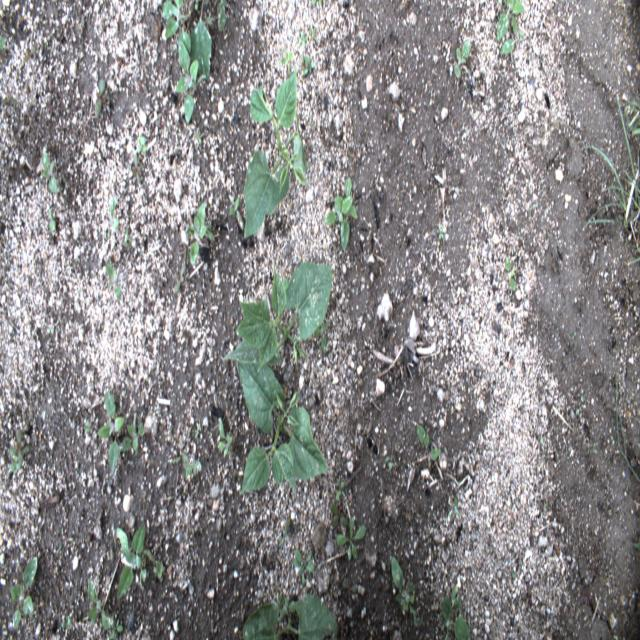crop: (235, 355, 330, 494), (223, 260, 335, 371), (243, 70, 309, 239), (240, 592, 340, 638), (187, 0, 230, 79), (116, 522, 146, 600), (10, 552, 38, 630), (174, 38, 199, 124), (186, 202, 214, 264), (441, 584, 472, 639), (495, 0, 525, 56), (162, 0, 191, 57), (416, 423, 441, 461)
weed: (579, 91, 639, 266), (613, 360, 639, 479), (324, 174, 359, 252), (97, 389, 125, 476), (391, 557, 421, 629), (87, 576, 115, 629), (336, 516, 368, 562), (293, 546, 315, 587), (118, 422, 145, 452), (42, 152, 61, 192), (452, 38, 470, 79), (9, 430, 29, 464), (218, 417, 234, 459), (105, 262, 122, 300), (182, 450, 202, 478), (277, 592, 295, 621), (108, 196, 120, 238), (329, 501, 349, 526), (314, 319, 328, 354), (278, 514, 291, 549), (94, 79, 105, 118), (505, 254, 515, 293), (152, 556, 166, 582), (297, 28, 317, 46), (300, 54, 316, 76), (282, 46, 293, 75), (109, 618, 123, 638), (172, 272, 184, 294), (133, 152, 141, 184), (575, 393, 586, 416), (8, 455, 22, 473), (47, 208, 57, 232), (228, 198, 241, 216), (137, 133, 147, 154), (62, 614, 73, 632), (123, 226, 132, 248), (336, 478, 345, 500), (452, 494, 459, 521), (437, 223, 448, 240), (0, 97, 18, 107), (0, 33, 7, 54), (84, 416, 91, 436), (168, 454, 181, 464), (386, 456, 394, 472), (195, 130, 202, 146), (310, 0, 322, 8), (46, 322, 54, 334), (195, 421, 200, 439), (570, 332, 576, 339), (62, 173, 66, 183)
